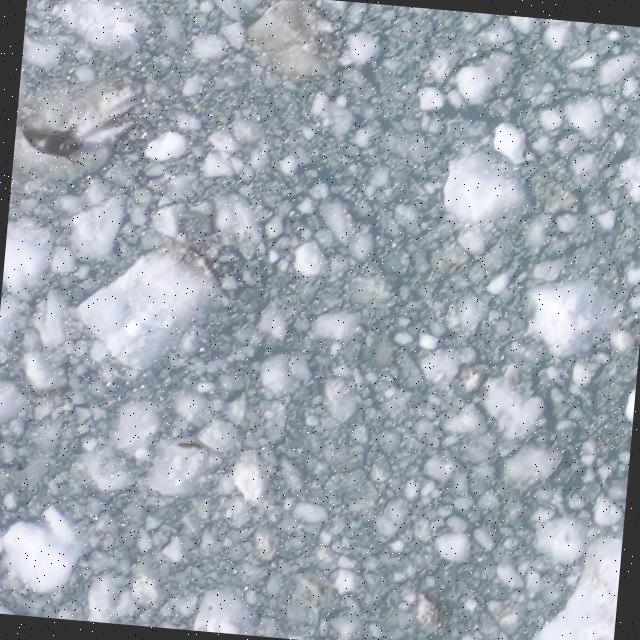seal: (18, 110, 91, 166)
